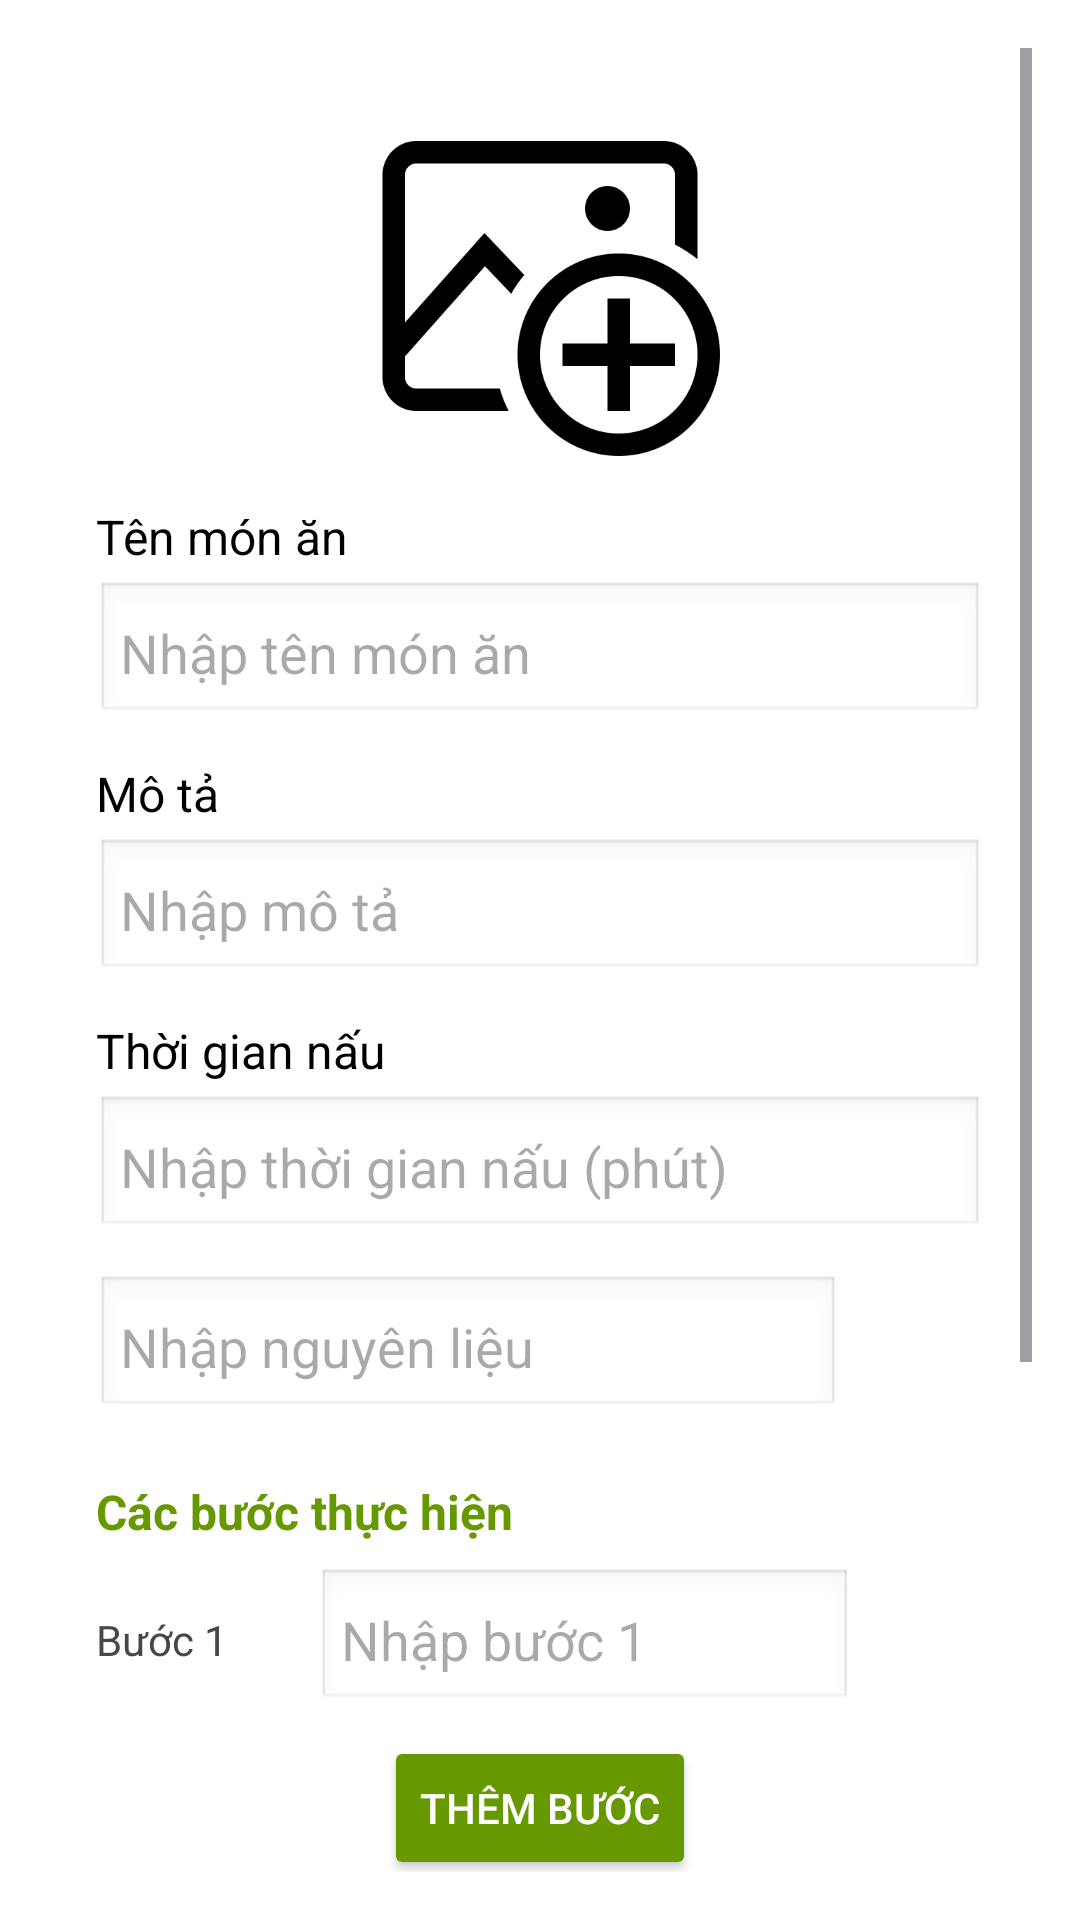

Where icons sit on this 1080 × 1920 app screen, as BBox(x1, y1, x2, y2):
add: BBox(382, 141, 720, 456)
